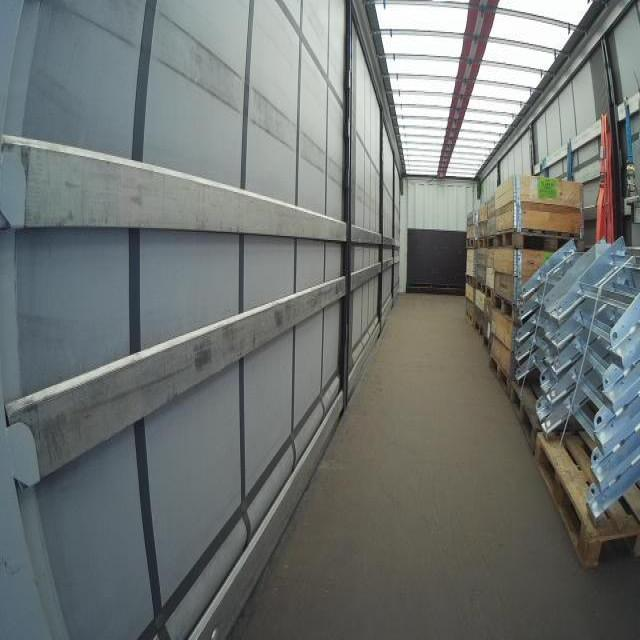pallet: (533, 425, 640, 571), (509, 375, 544, 460), (494, 225, 585, 254), (489, 354, 517, 399), (489, 292, 515, 321), (486, 235, 500, 253), (462, 269, 473, 291), (479, 327, 489, 350), (473, 277, 483, 299), (461, 306, 472, 325), (476, 236, 488, 253), (485, 285, 494, 304), (464, 235, 475, 248), (472, 319, 479, 335)
